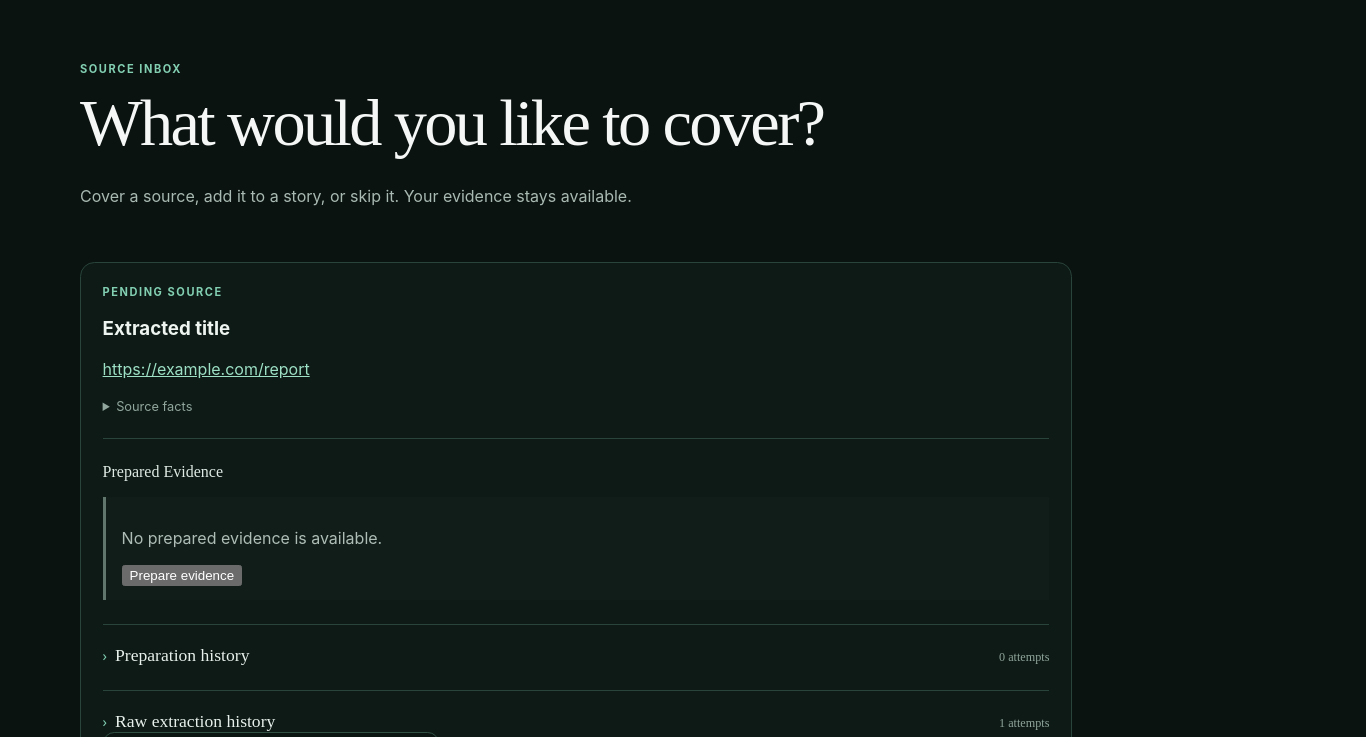
Test: SourceInboxWorkspace › prepares the selected successful extraction while retaining raw evidence and pending triage
The width and height of the screenshot is (1366, 737).
Click the button "Prepare evidence".
click(182, 575)  # box [122,564,242,586]
(page scrolled)
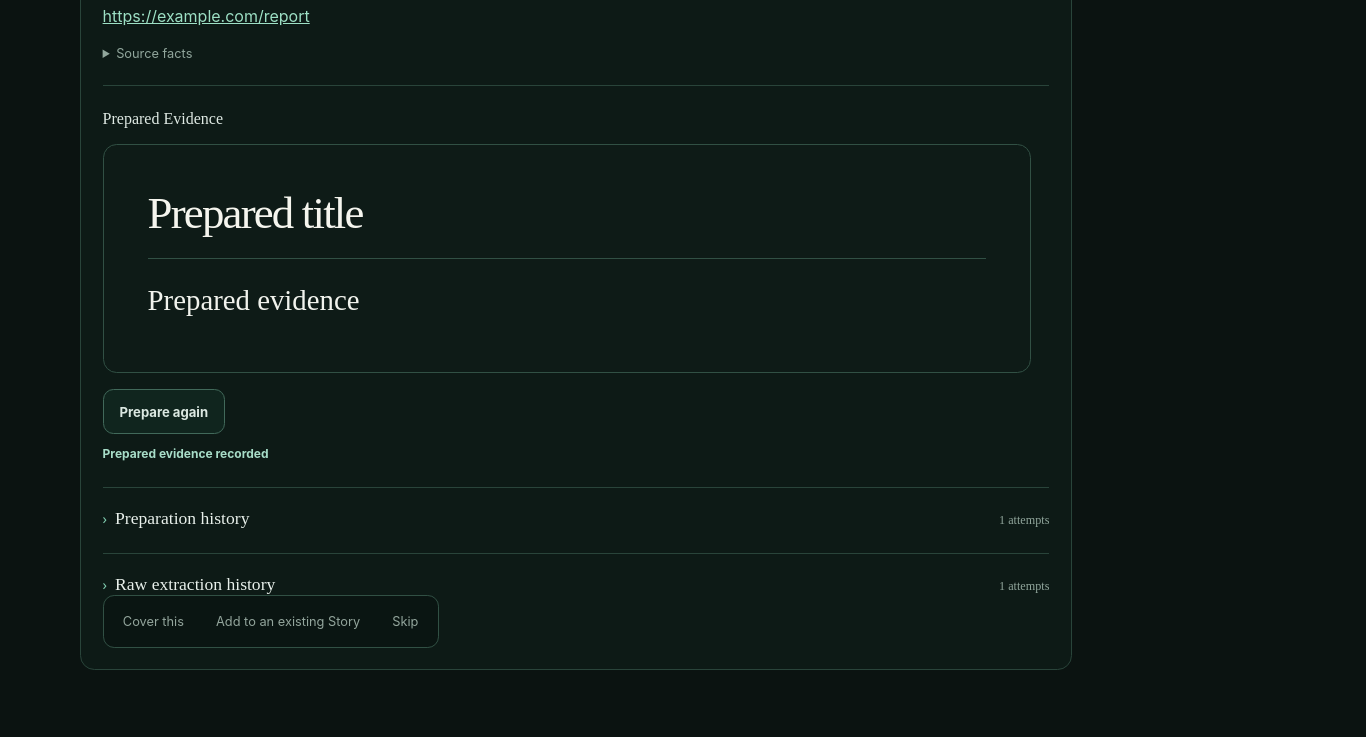
expect the text "Prepared evidence recorded" is shown: met, box [103,446,269,461]
expect the heading "Prepared evidence" is shown: met, box [148,284,360,316]
expect the button "Prepare again" is shown: met, box [103,389,225,434]
Click the text "Raw extraction history".
click(189, 585)  # box [103,574,275,595]
(page scrolled)
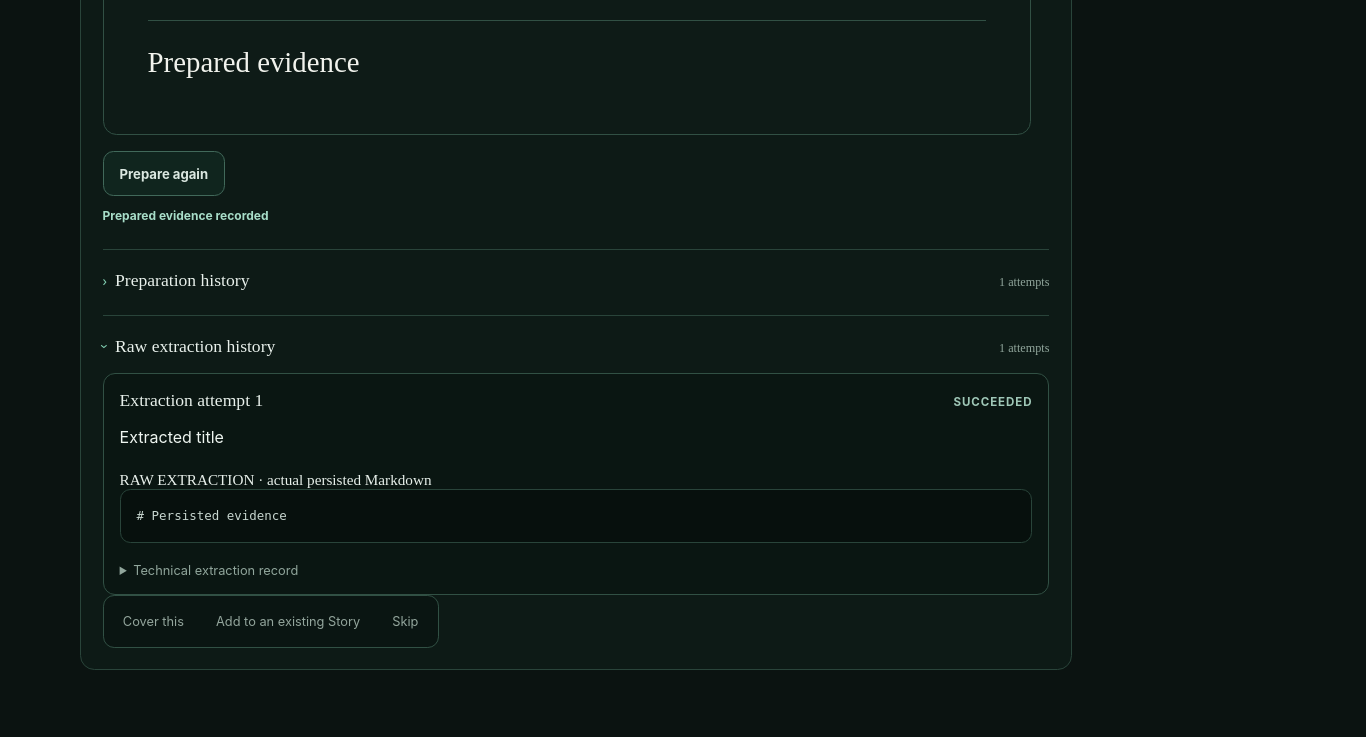
expect the text "# Persisted evidence" is shown: met, box [120,489,1032,543]
